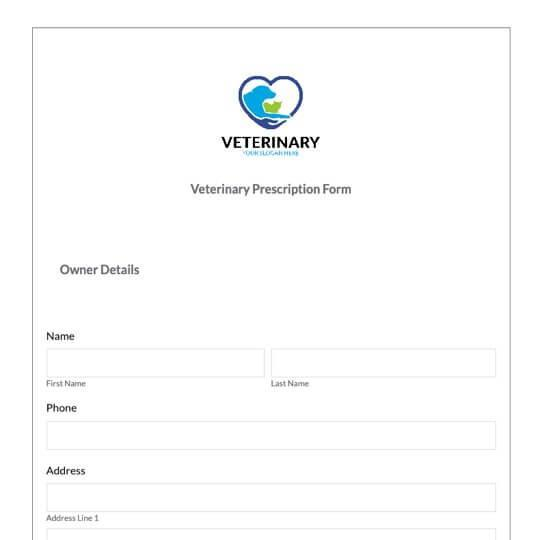input: (49, 423, 497, 451), (49, 485, 497, 512), (272, 349, 498, 378), (49, 350, 266, 377)
label: (189, 179, 354, 198), (60, 263, 144, 278), (269, 379, 313, 392), (44, 515, 101, 525), (46, 466, 89, 477), (46, 379, 88, 390), (44, 330, 77, 342), (46, 402, 79, 414)
